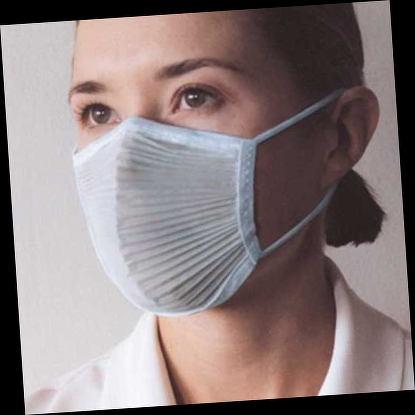with_mask: (71, 51, 319, 315)
